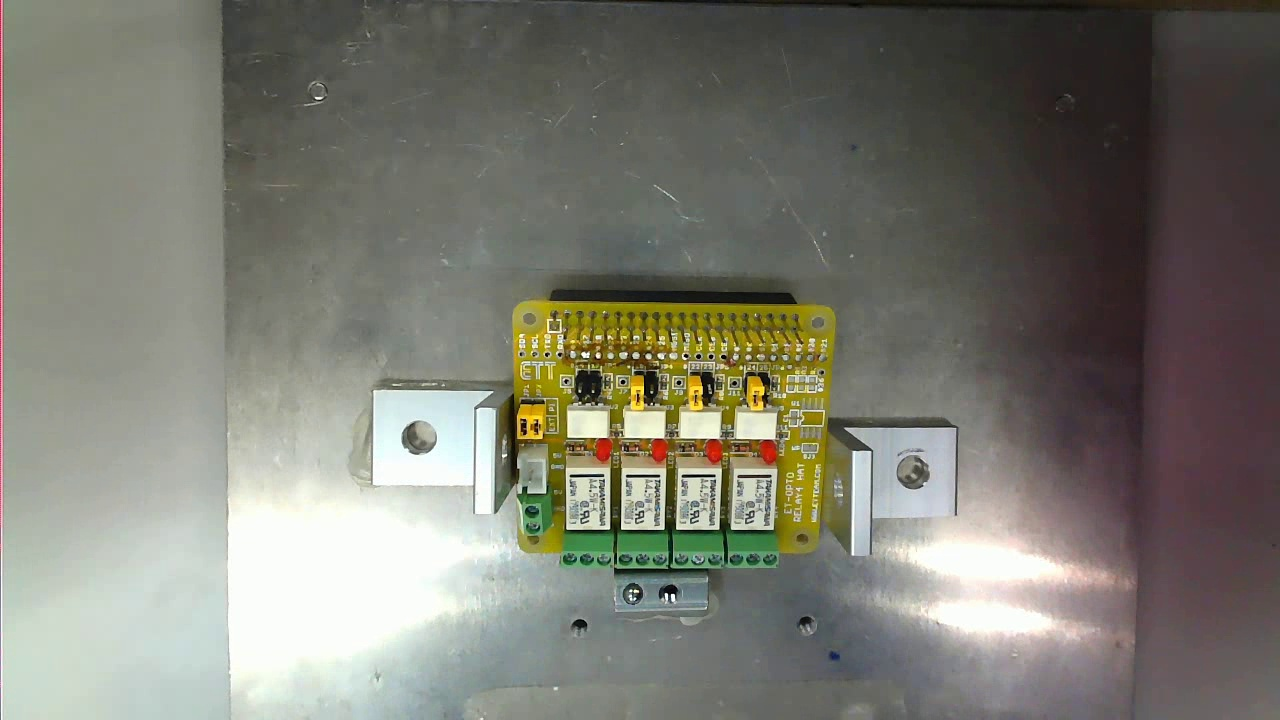can: (493, 297, 841, 576)
